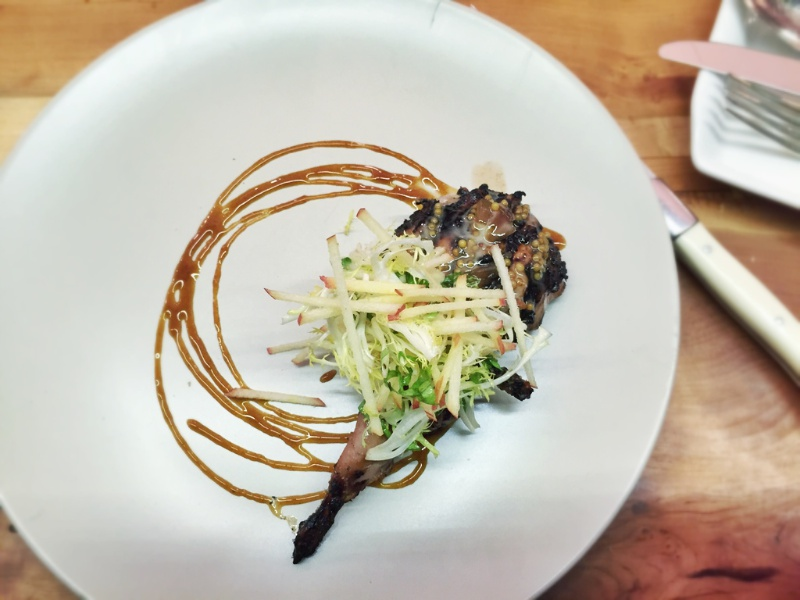knife: (648, 31, 800, 104)
